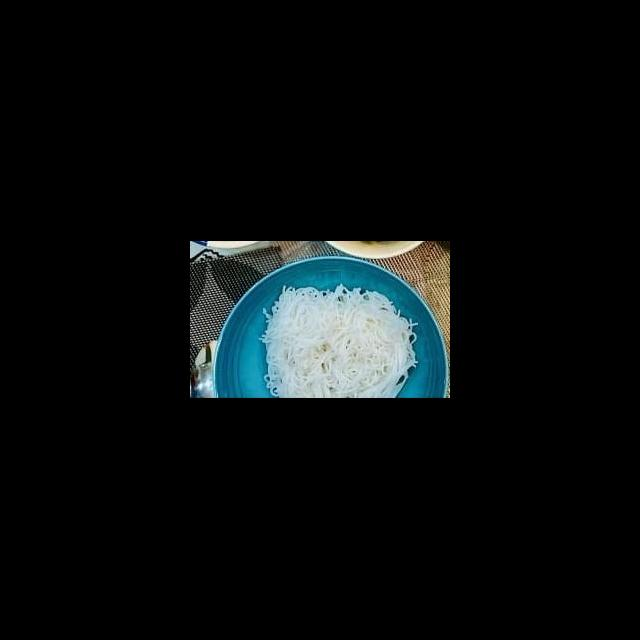bun: (254, 280, 422, 398)
